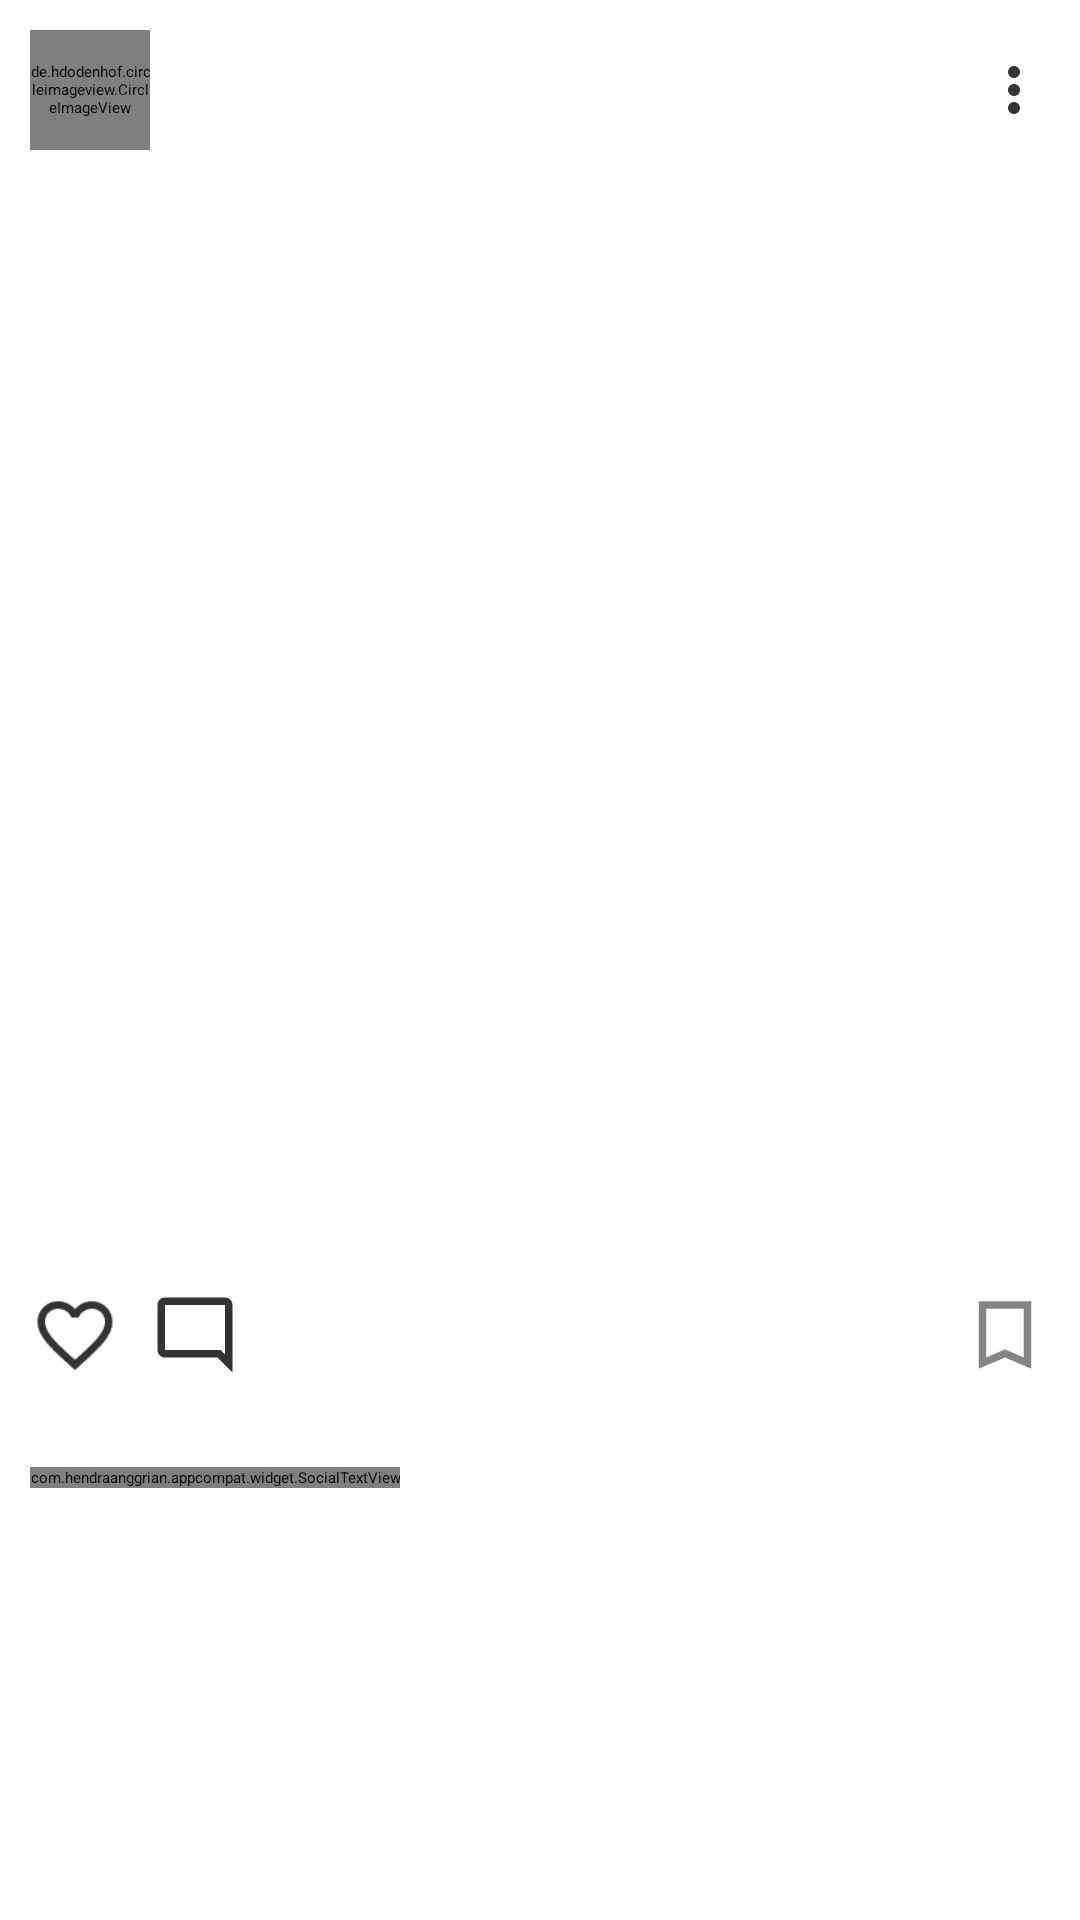

Screen size 1080×1920. Icon name, then its center in pixels as [x,y]:
comment: [195,1335]
like: [75,1335]
more: [1014,90]
save: [1005,1335]
